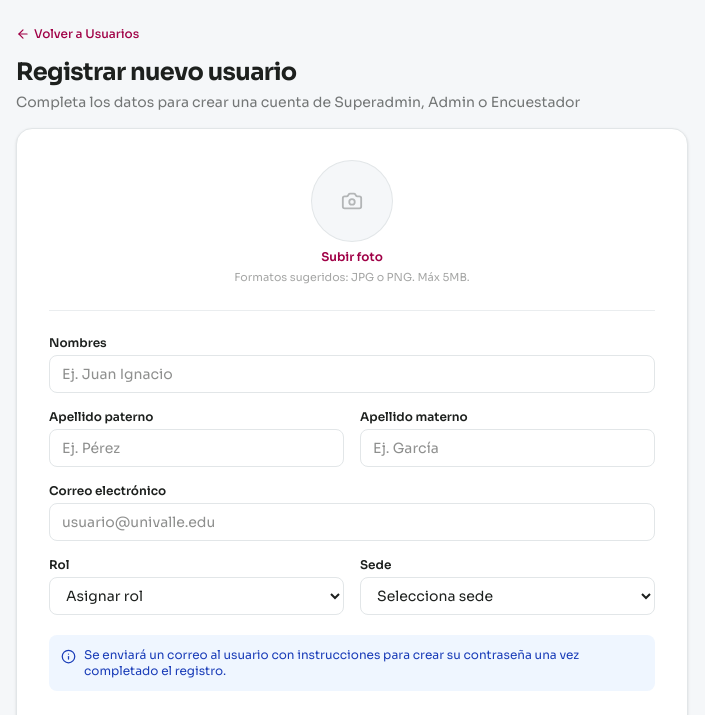
Test: RegistrarUsuarioPage › registra al usuario y muestra la pantalla de éxito
The width and height of the screenshot is (705, 715).
Type "Juan" into the field with placeholder "Ej. Juan Ignacio". click: (352, 374)
box: 49,354 -> 655,392
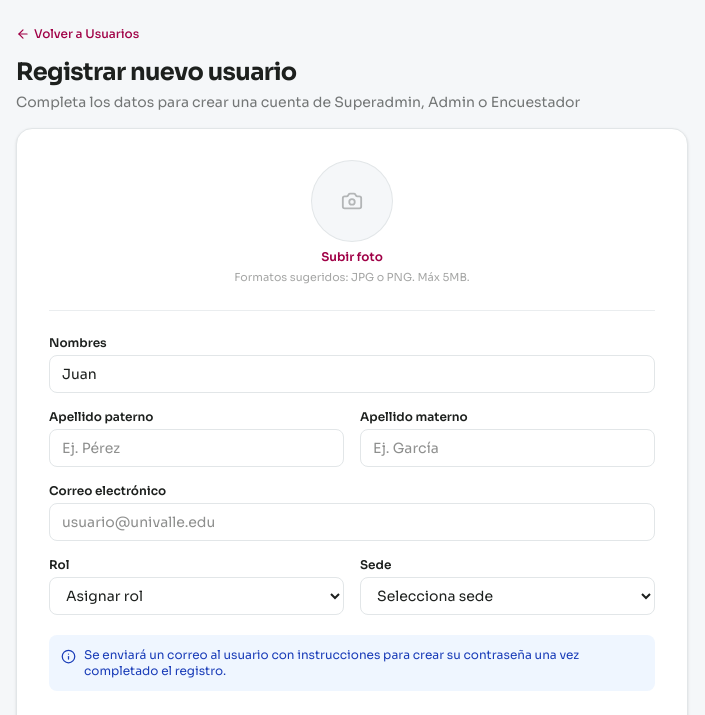
Type "Pérez" into the field with placeholder "Ej. Pérez". click: (196, 448)
box: 49,428 -> 344,466
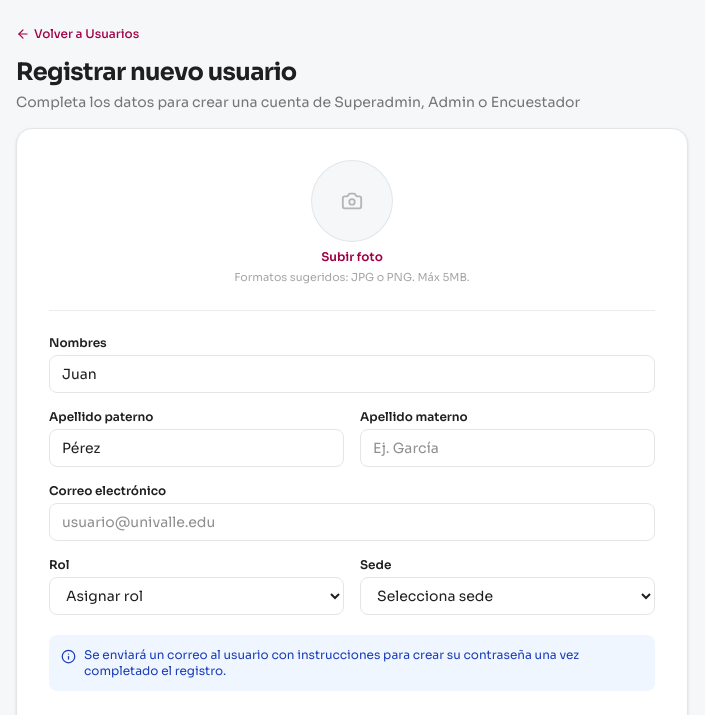
Type "juan@univalle.edu" into the field with placeholder "usuario@univalle.edu". click: (352, 522)
box: 49,502 -> 655,540
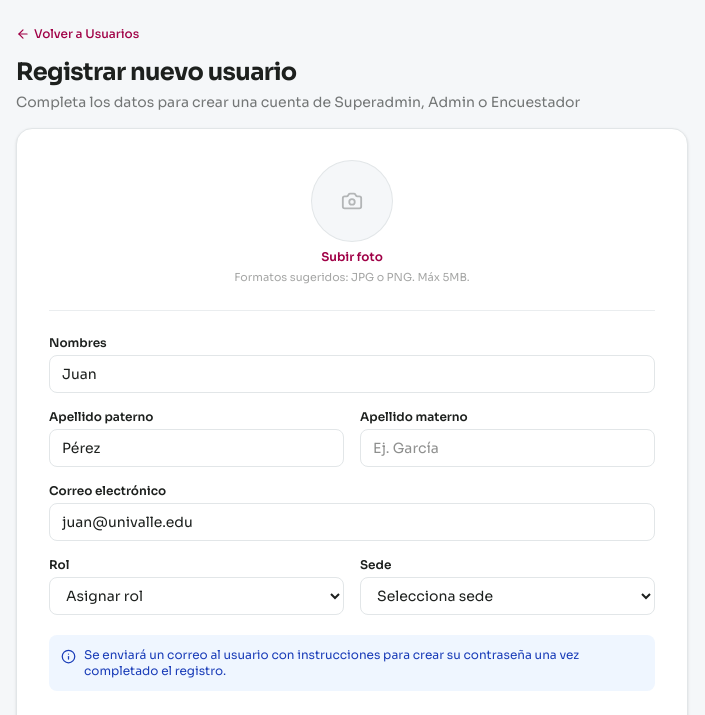
Select "Admin" in the dropdown showing "Asignar rol". click: (196, 596)
box: 49,576 -> 344,614
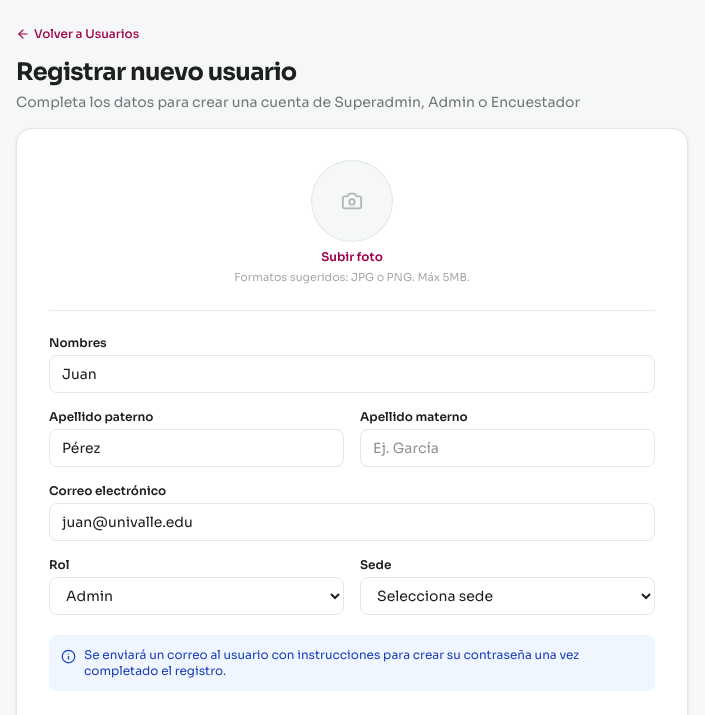
Select "Cochabamba" in the dropdown showing "Selecciona sede". click: (508, 596)
box: 360,576 -> 655,614
(page scrolled)
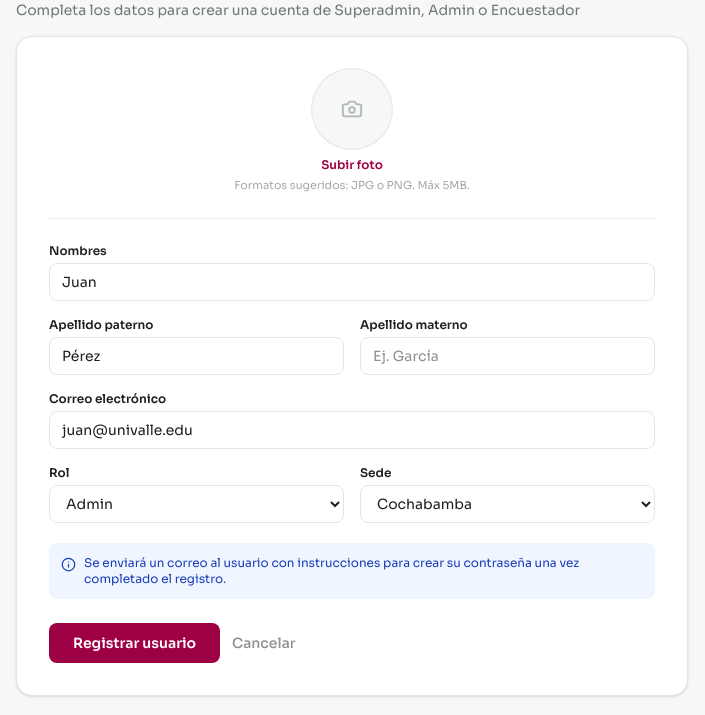
Click the button "Registrar usuario". click: (134, 642)
box: 49,622 -> 220,662
(page scrolled)
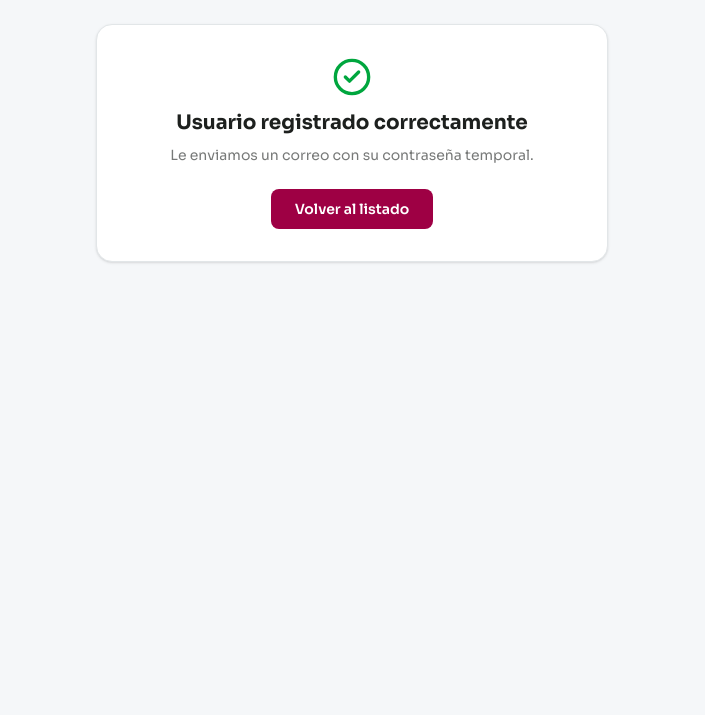
Result: the heading "Usuario registrado correctamente" is shown at 176,110 -> 528,135
Result: the text "Le enviamos un correo con su contraseña temporal." is shown at 170,146 -> 534,164
